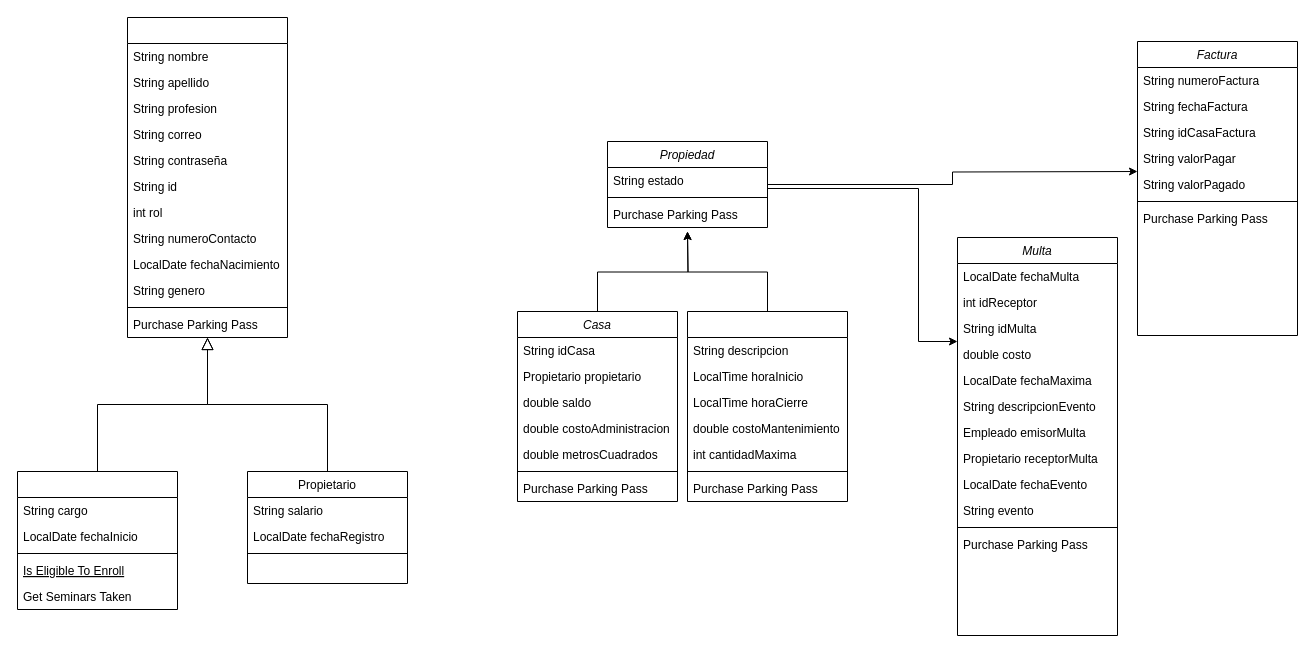
The diagram is 1315 pixels wide and 653 high, and some of its shapes have lost their labels. Each missing label, with the box of its shape:
Empleado: (16, 470, 178, 610)
Persona: (126, 16, 288, 338)
ZonaComun: (686, 310, 848, 502)
